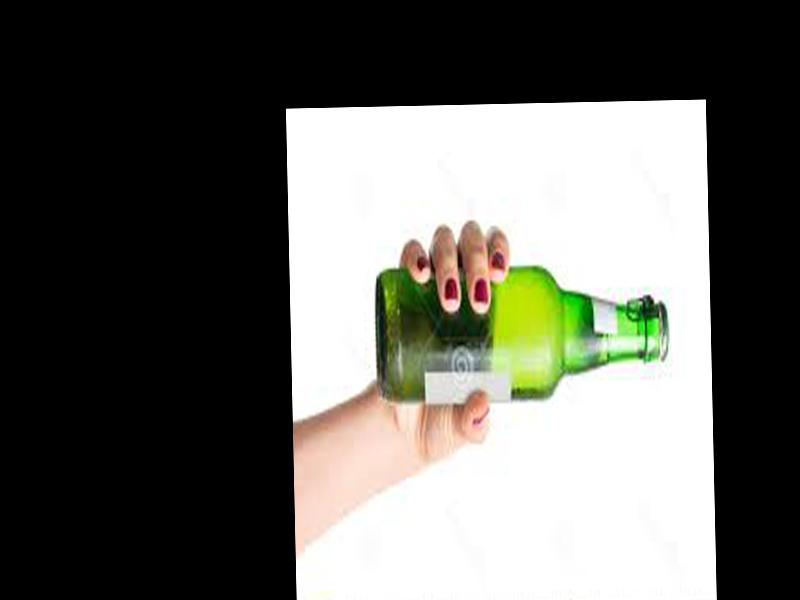Beer: (375, 254, 670, 408)
